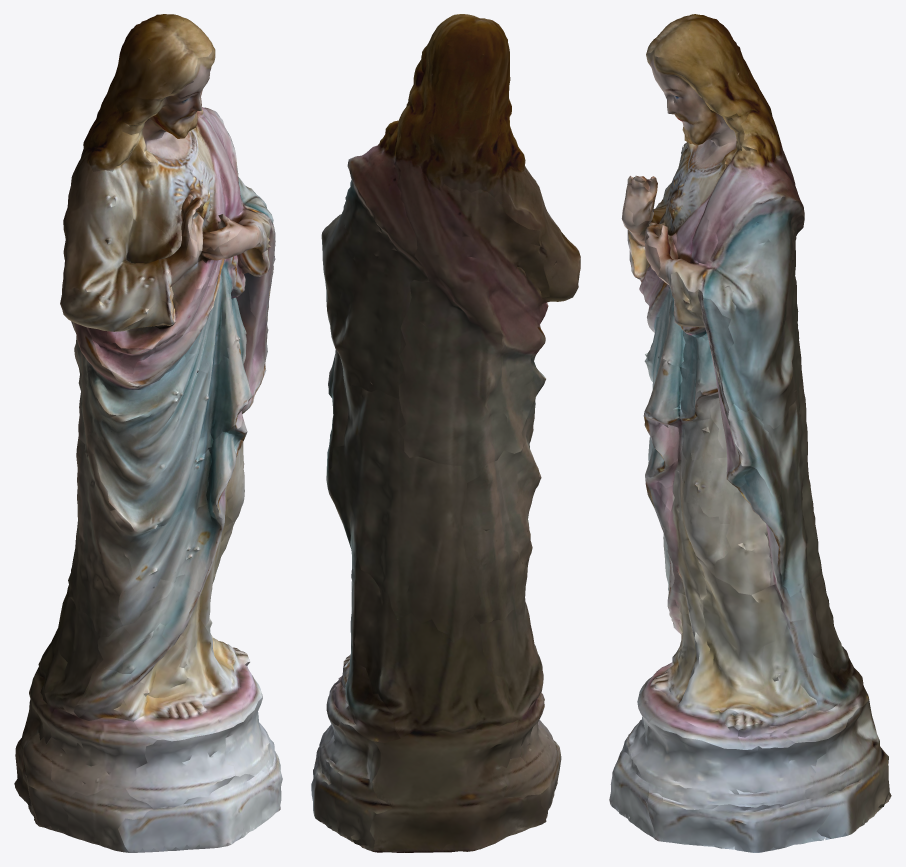
Rendered from jesus_statue_a.glb.
3 renders of one model, left to right at view 1: azimuth 30°, elevation 25°; view 2: azimuth 150°, elevation 25°; view 3: azimuth 270°, elevation 25°, orthographic. The views are drawn at different scales.
Visible parts, largest first — view 1: Default_2_material_0_0; view 2: Default_2_material_0_0; view 3: Default_2_material_0_0.
Boxes of the visible parts, x1=… form: Default_2_material_0_0: x1=14, y1=14, x2=282, y2=852; Default_2_material_0_0: x1=311, y1=14, x2=580, y2=852; Default_2_material_0_0: x1=609, y1=14, x2=891, y2=852.
Size of the model in its own units: 1.21 by 3.95 by 1.3.
1 material, 1 textured.
